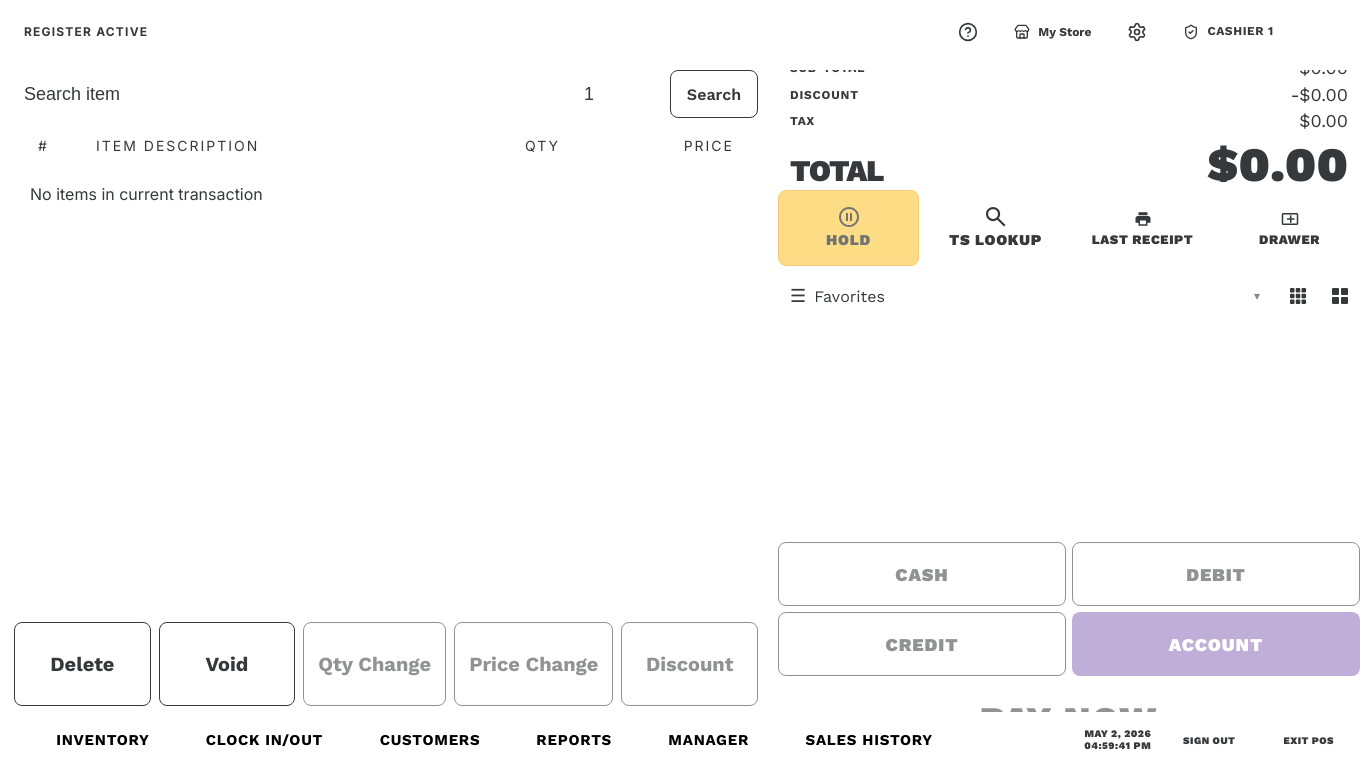
it: POSScreen › opens inventory modal when Inventory shortcut is clicked
This screenshot has width=1366, height=768.
Click the text "Inventory": (103, 740) x1=56 y1=731 x2=150 y2=749
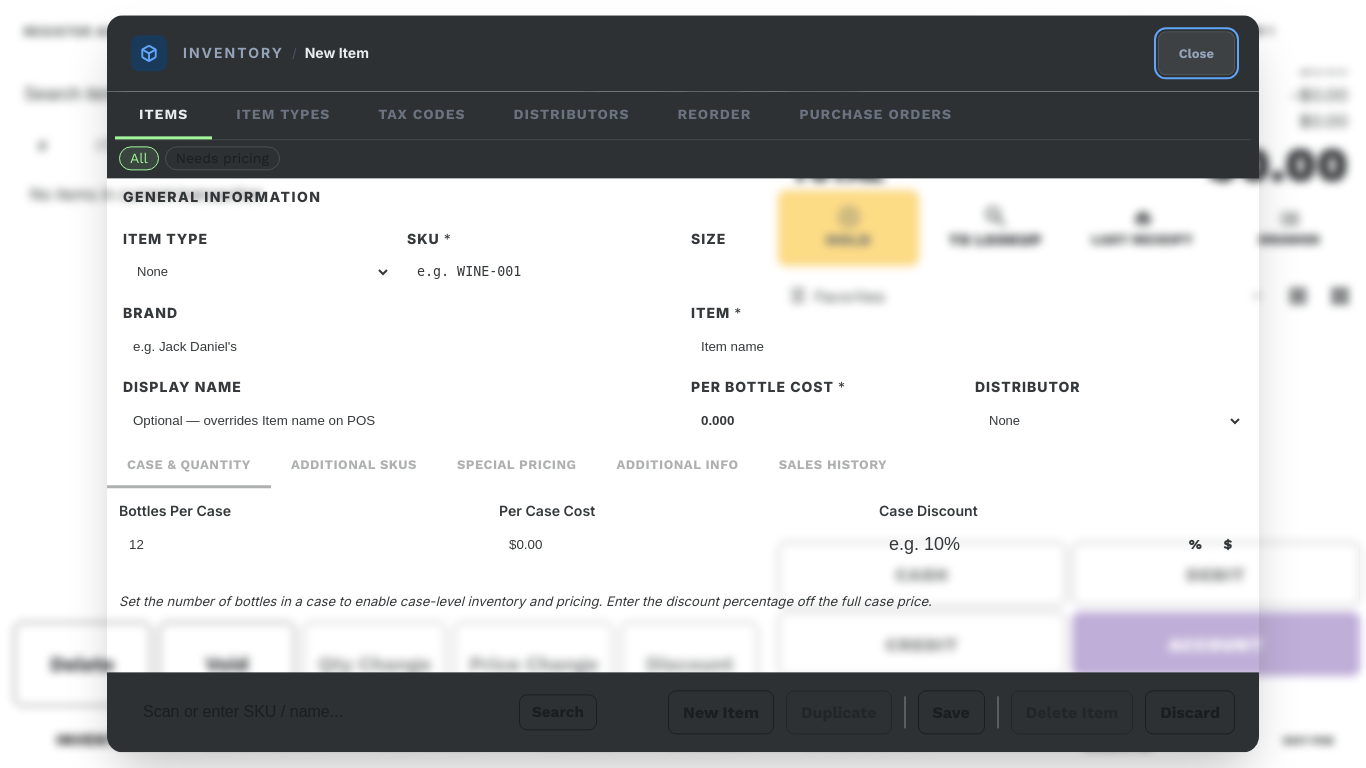
Now the dialog named "Inventory Management" is shown
